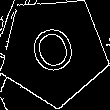O_S: (25, 19, 82, 82)
